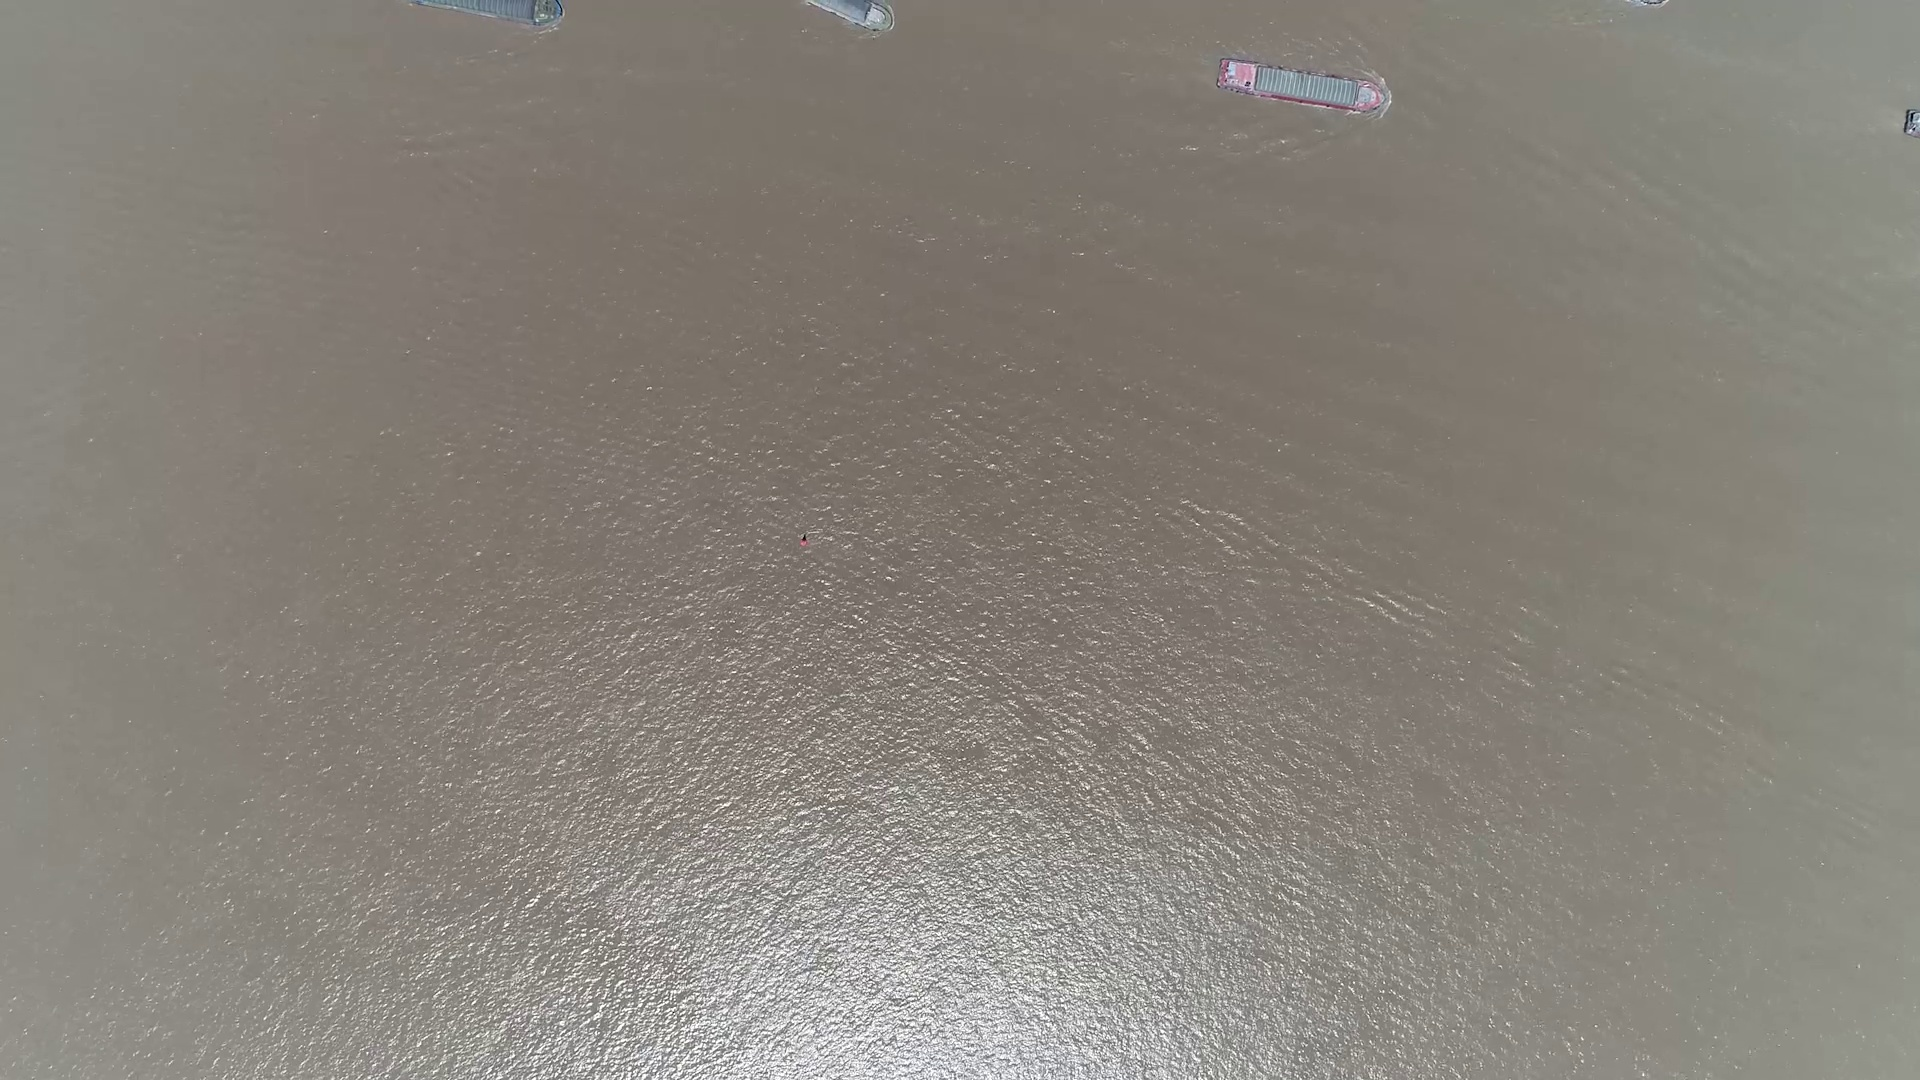ship: (1215, 61, 1389, 113)
